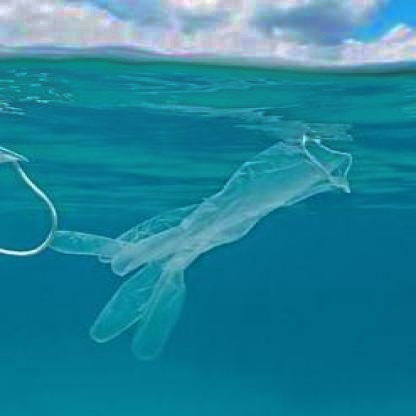glove: (52, 140, 356, 358)
